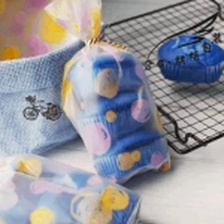snack: (37, 0, 180, 192), (0, 148, 147, 223)
